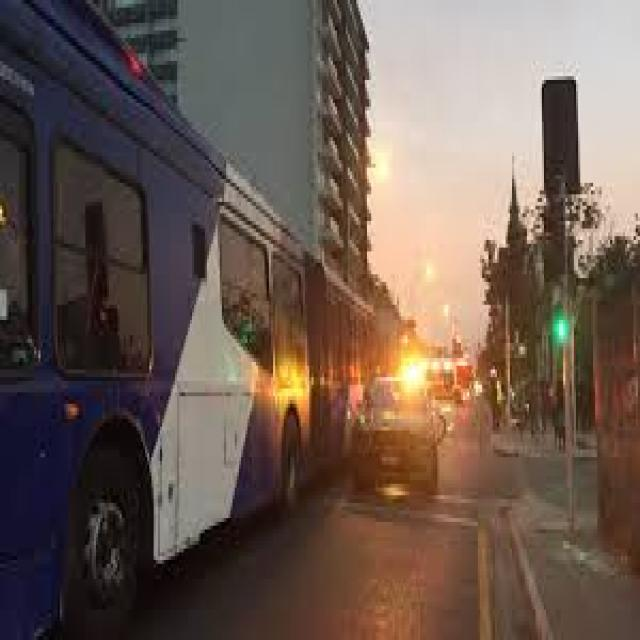AB: (2, 4, 384, 636)
